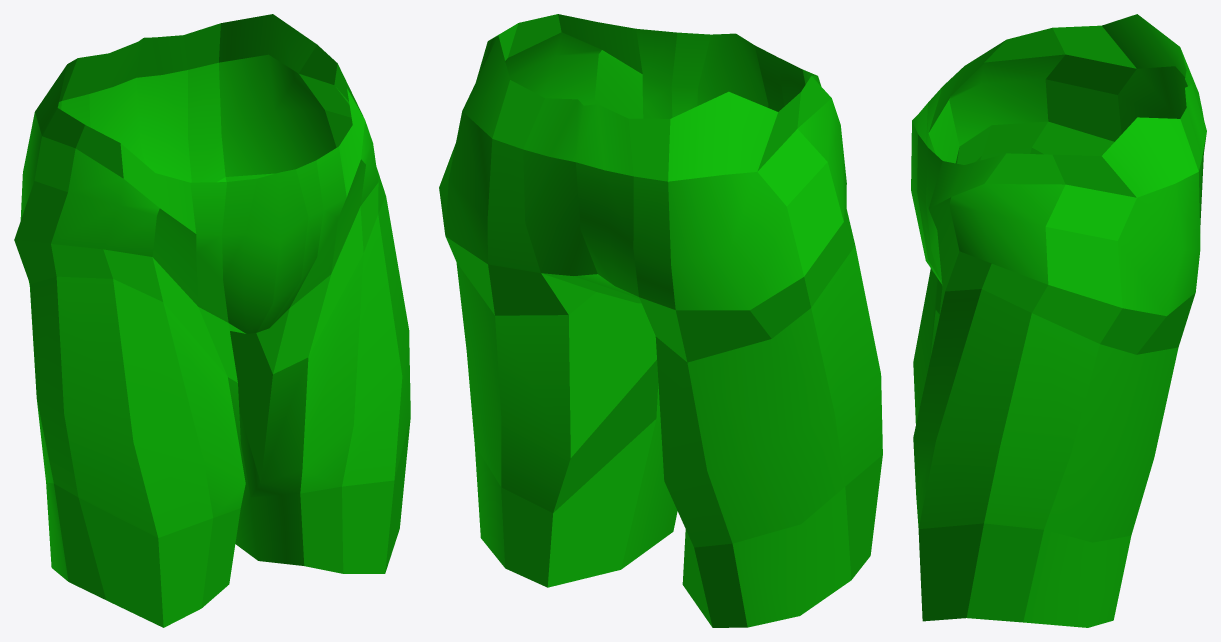
The model's file is ball shorts.obj.
The picture shows the model from 3 angles, left to right: view 1: azimuth 30°, elevation 25°; view 2: azimuth 150°, elevation 25°; view 3: azimuth 270°, elevation 25°; orthographic projection. The views are drawn at different scales.
Parts seen in each view (by area): view 1: GenericMesh2; view 2: GenericMesh2; view 3: GenericMesh2.
Part boxes in pixels (x1=…): GenericMesh2: x1=14, y1=14, x2=410, y2=627; GenericMesh2: x1=439, y1=14, x2=882, y2=627; GenericMesh2: x1=911, y1=14, x2=1206, y2=627.
Bounding box in the file's own units: 7.09 × 9.76 × 5.11.
